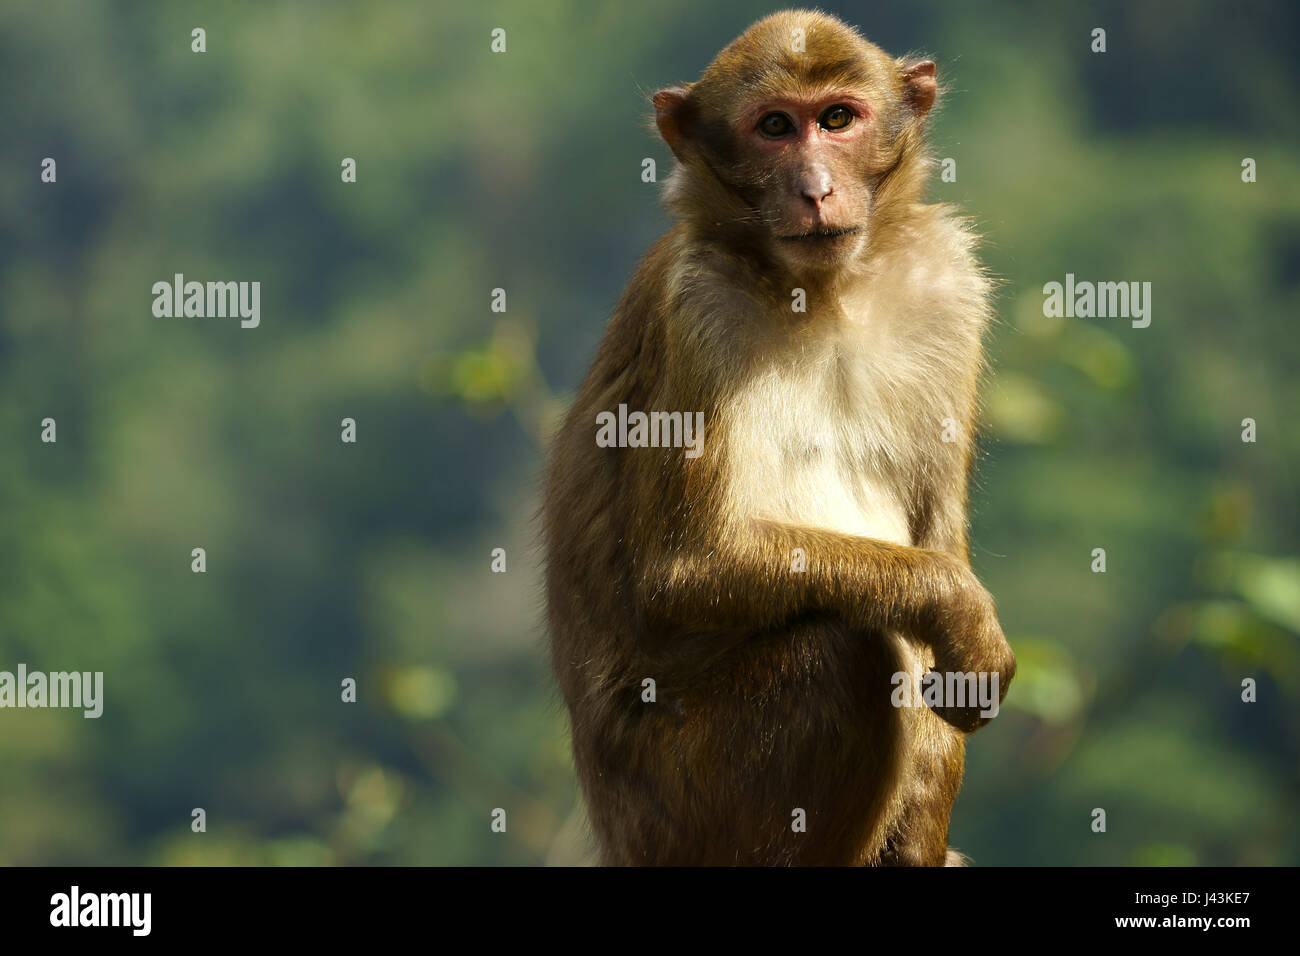monkey: (522, 8, 1034, 868)
